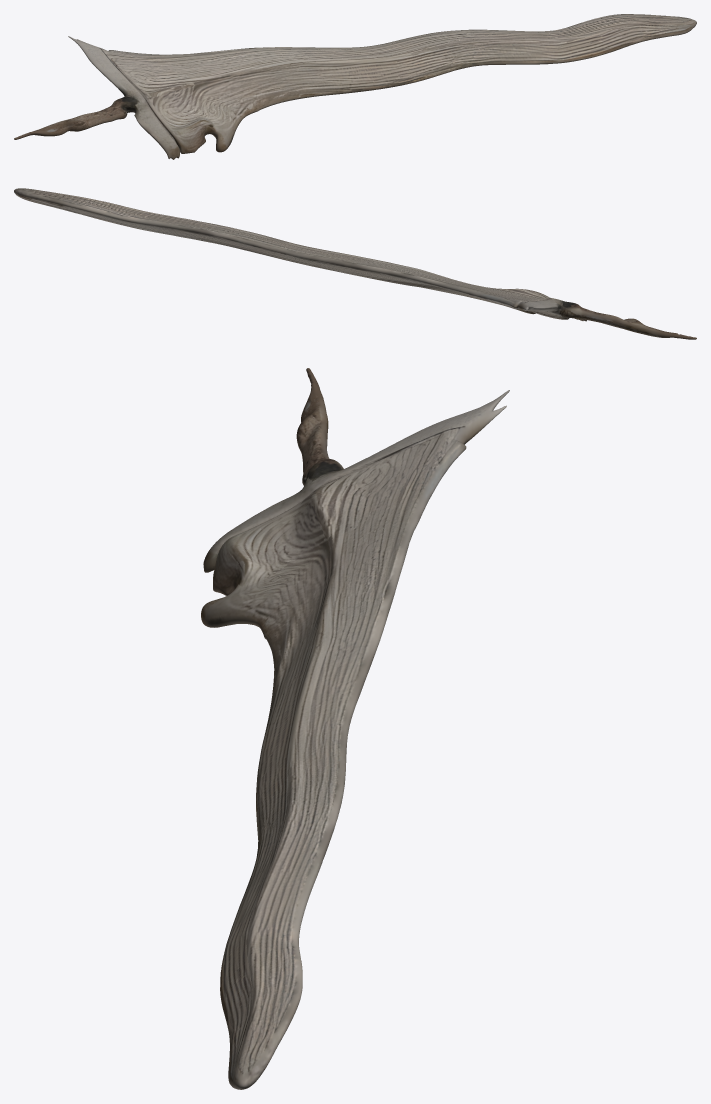
Rendered from Kris.glb.
The picture shows the model from 3 angles, top to bottom: view 1: azimuth 30°, elevation 25°; view 2: azimuth 150°, elevation 25°; view 3: azimuth 270°, elevation 25°; orthographic projection. The views are drawn at different scales.
Visible parts, largest first — view 1: node_0; view 2: node_0; view 3: node_0.
Boxes of the visible parts, x1,y1,x2,y2 form: node_0: (14, 14, 696, 159); node_0: (14, 188, 696, 339); node_0: (201, 368, 509, 1089).
Bounding box in the file's own units: 0.5909 × 0.068 × 0.1187.
1 material, 1 textured.
